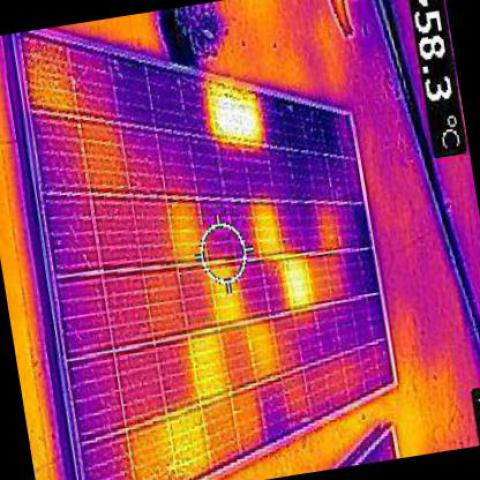fault: (192, 330, 228, 396), (209, 92, 255, 140), (255, 202, 282, 254), (281, 261, 310, 306)
